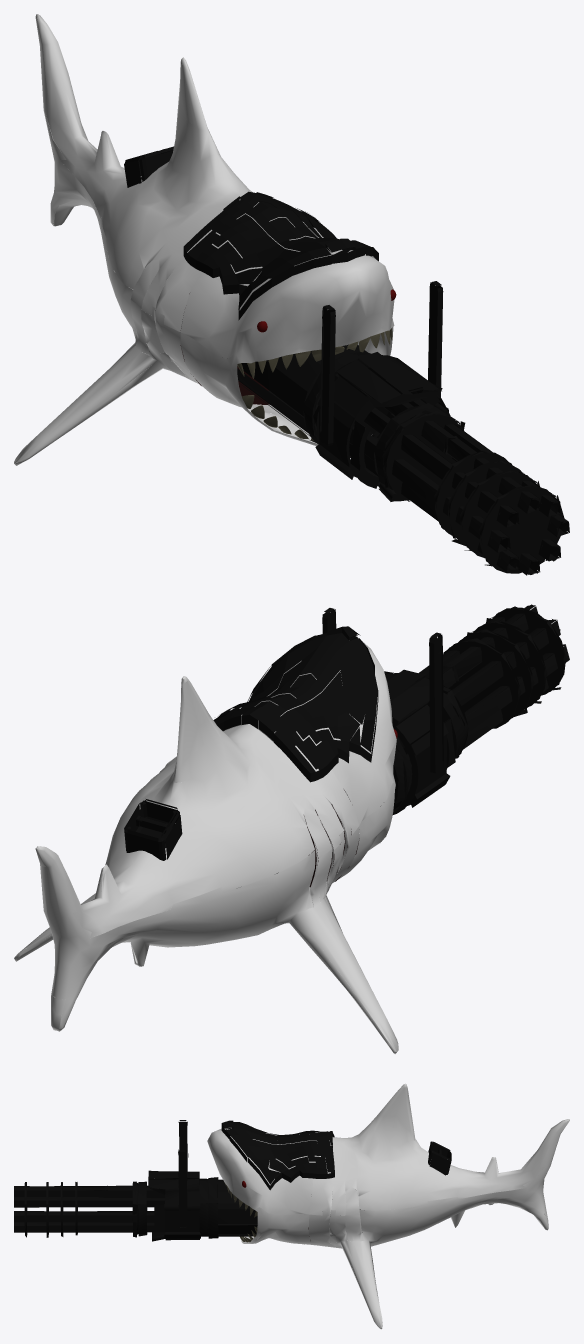
File: minishark.obj
3 views of the same model, one above another, from view 1: azimuth 30°, elevation 25°; view 2: azimuth 150°, elevation 25°; view 3: azimuth 270°, elevation 25° (orthographic). The views are drawn at different scales.
Parts seen in each view (by area): view 1: Object_4, Object_7, Object_6; view 2: Object_4, Object_7; view 3: Object_4, Object_7.
Part boxes in pixels (x1,y1,x2,y2): Object_4: (14, 14, 394, 465); Object_7: (124, 146, 569, 575); Object_6: (237, 328, 392, 440); Object_4: (14, 637, 398, 1054); Object_7: (124, 604, 569, 873); Object_4: (207, 1083, 569, 1329); Object_7: (14, 1120, 451, 1241).
Bounding box in the file's own units: 0.9126 × 0.7921 × 2.05.
